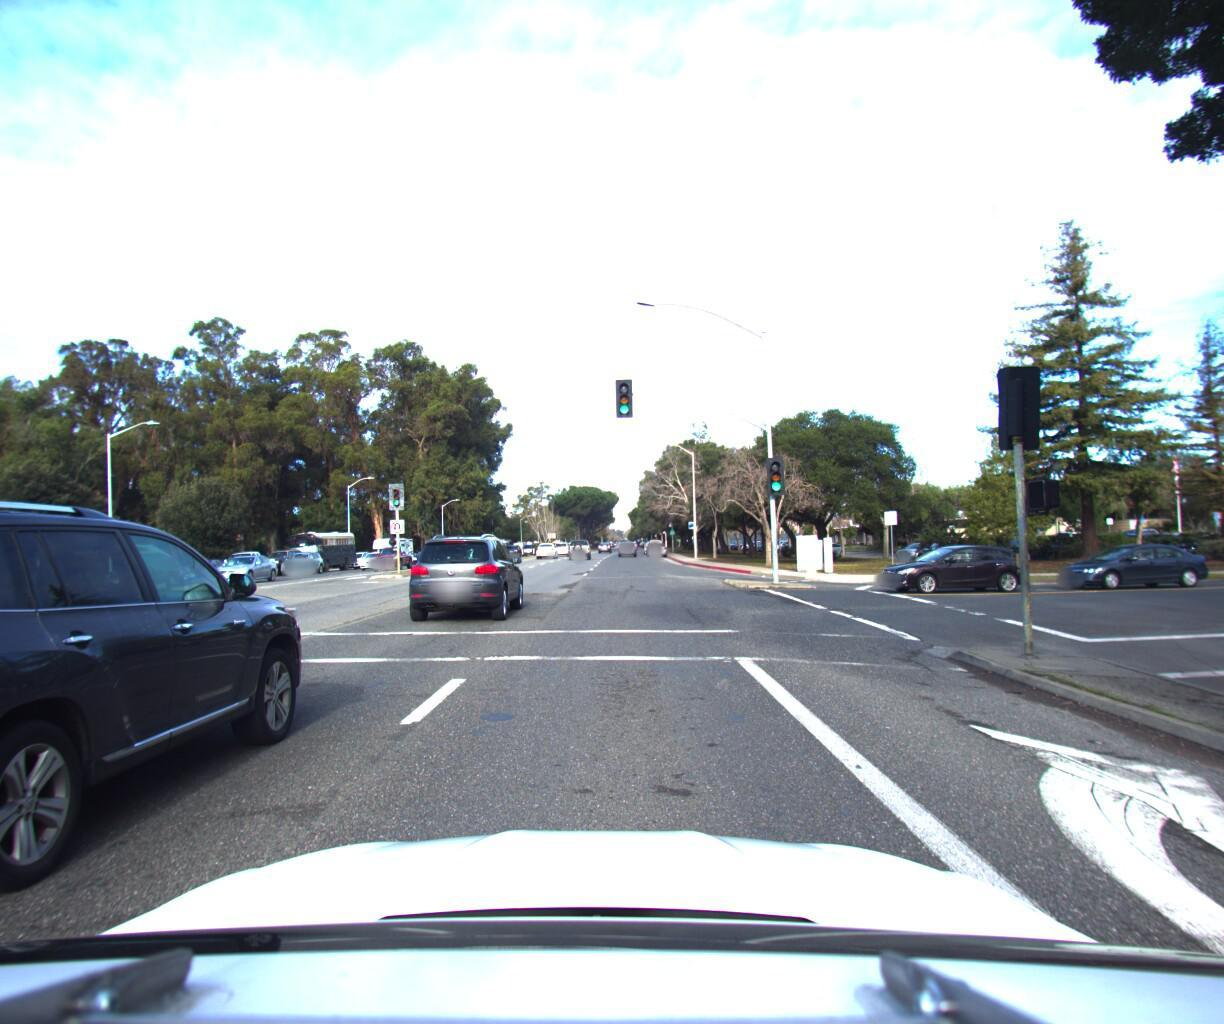bus: (280, 519, 362, 569)
car: (0, 469, 338, 1024), (403, 525, 531, 621), (1039, 530, 1214, 585), (865, 532, 1033, 589), (207, 545, 280, 580), (259, 539, 311, 570), (281, 541, 330, 567), (369, 537, 417, 564), (357, 540, 397, 562), (565, 529, 592, 550), (534, 534, 560, 552), (646, 531, 668, 548), (617, 532, 638, 548)
